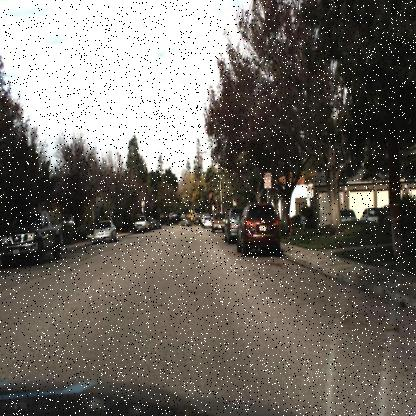car: (2, 205, 66, 273), (0, 207, 64, 263), (236, 197, 282, 260), (235, 195, 282, 253), (91, 218, 119, 248), (359, 205, 391, 230), (92, 219, 118, 245), (224, 207, 239, 246), (334, 207, 360, 228), (131, 212, 149, 234), (209, 208, 222, 236), (174, 214, 192, 232), (200, 212, 214, 232)
